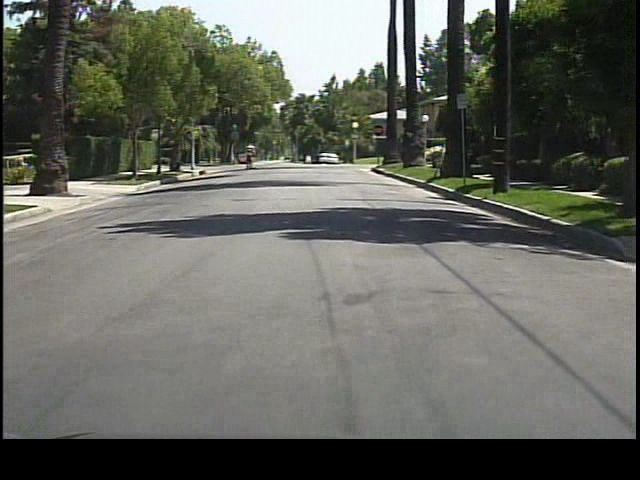person: (243, 140, 258, 171)
